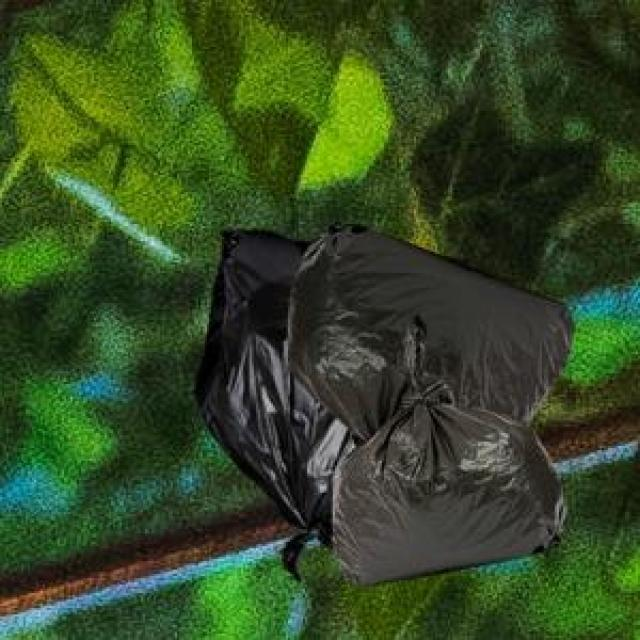Vinyl: (198, 230, 568, 582)
